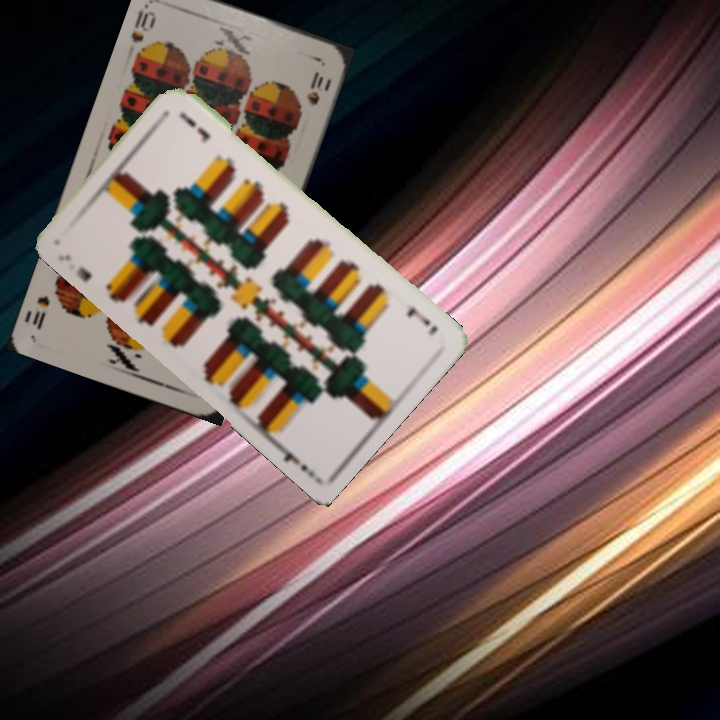E7: (54, 250, 95, 284), (402, 303, 440, 339)
S10: (127, 6, 159, 45)
